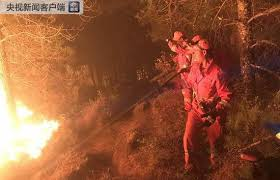fire: (1, 76, 61, 164)
